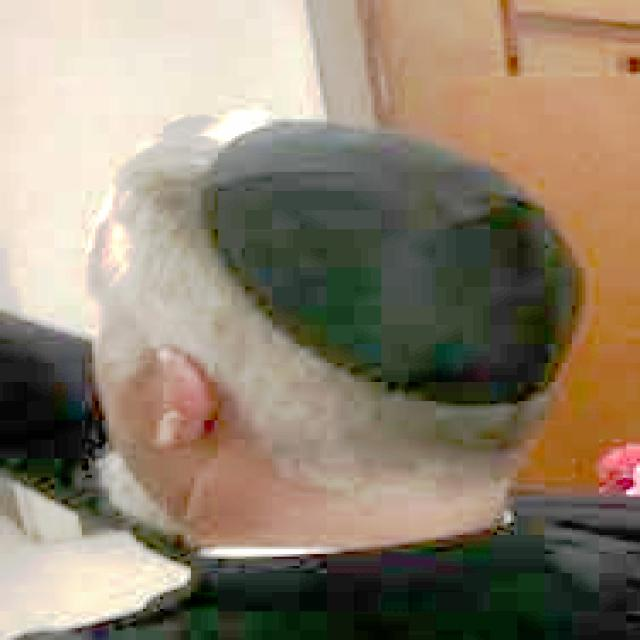TOPI: (194, 110, 589, 411)
